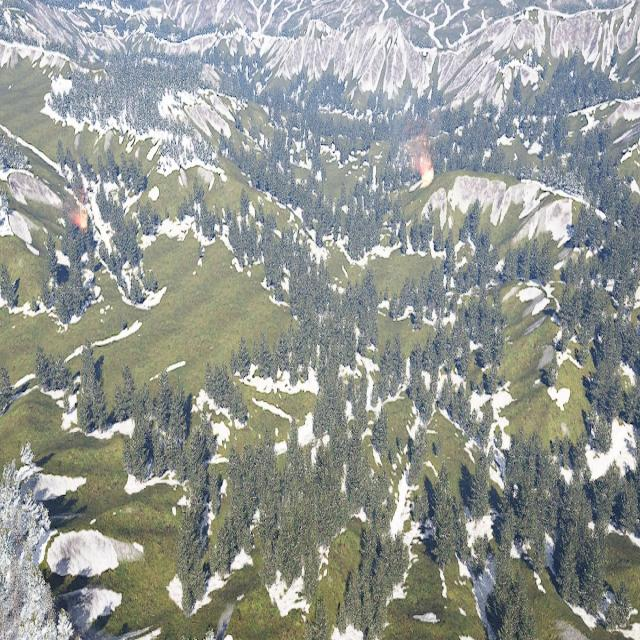fire: (420, 167, 434, 185), (75, 214, 87, 230)
smoke: (406, 126, 432, 168), (61, 182, 84, 222)
